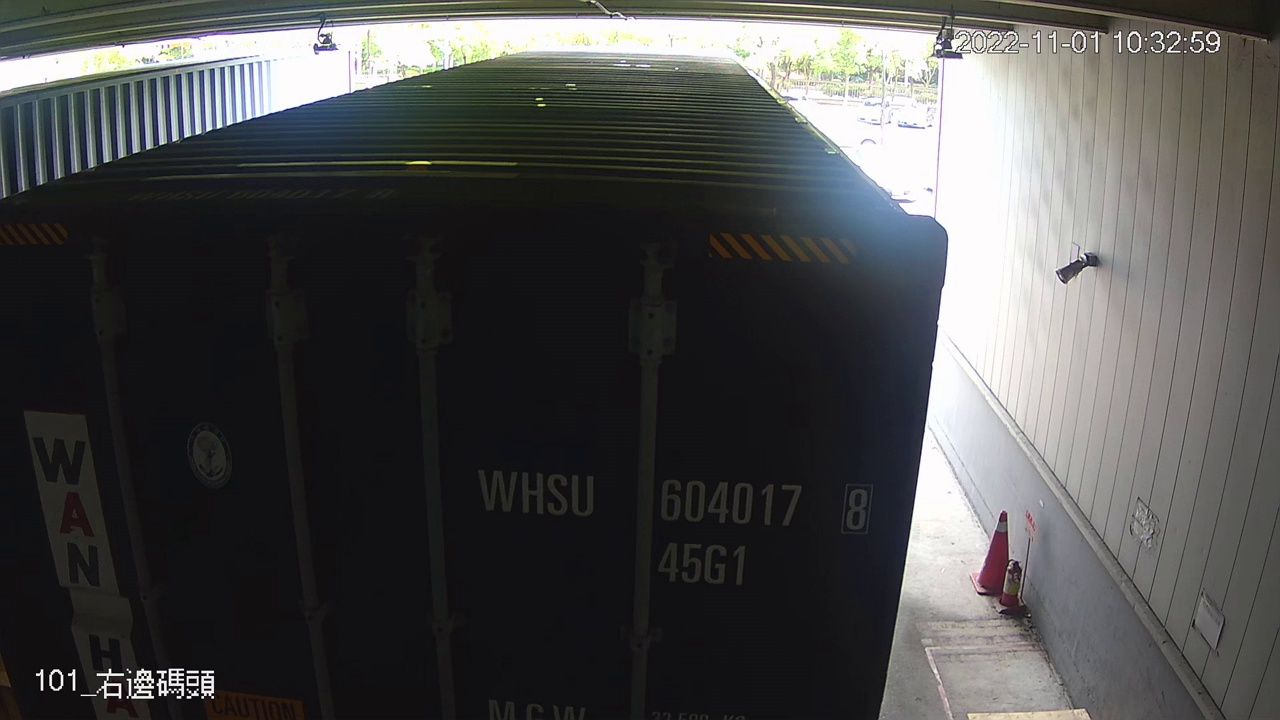container: (465, 451, 882, 590)
